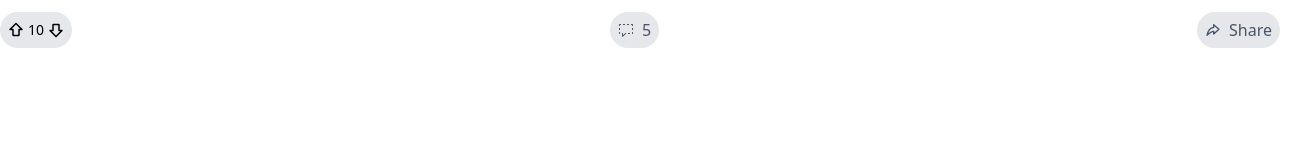
Test: PostButtons component › popup closes when clicking outside
Click the button with aria-label "share button" at (1238, 30), box [1197,12,1280,48]
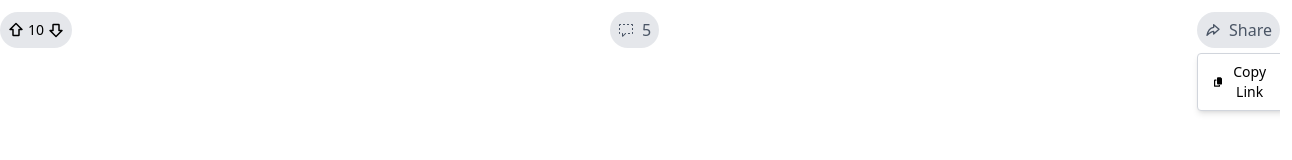
Expected: the button "Copy Link" is shown, [1214,62,1269,102]
// Click outside (simulate clicking document body)
Click the element showing "10 5 Share Copy Link" at (640, 30), box [0,12,1280,48]
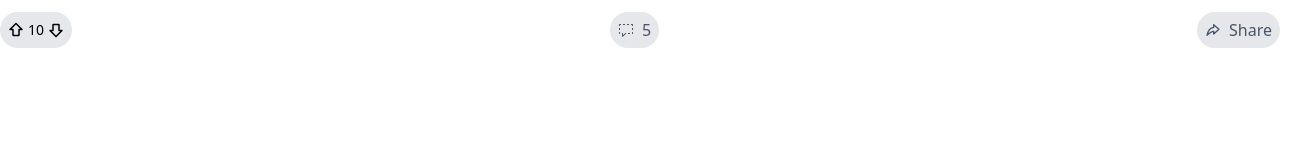
Expected: the button "Copy Link" is gone
